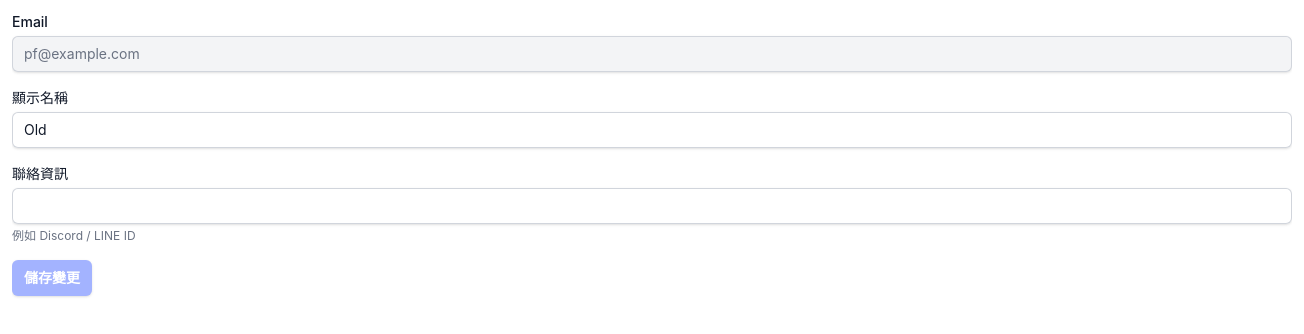
Test case: ProfileForm › renders server 422 errors on the matching field
This screenshot has width=1304, height=334.
Replace the text in the field labelled "顯示名稱" with "x" at point(652, 130), box [12,112,1292,148]
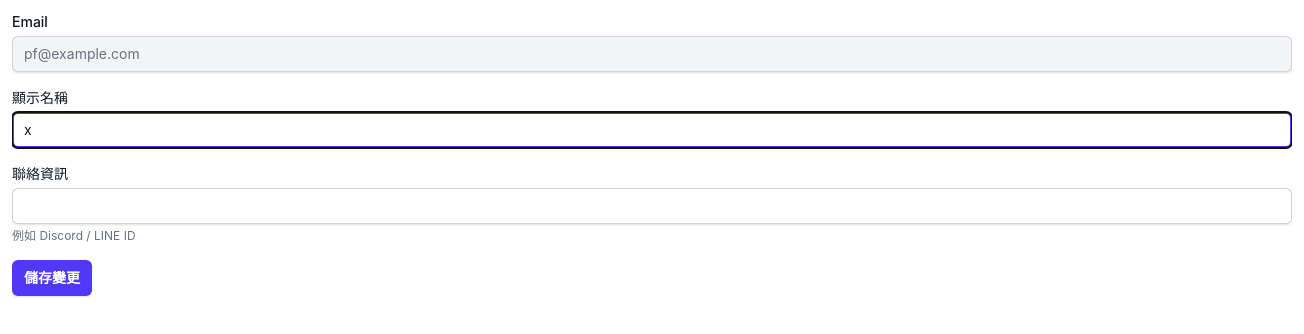
Click the button "儲存變更" at point(52, 278), box [12,260,92,296]
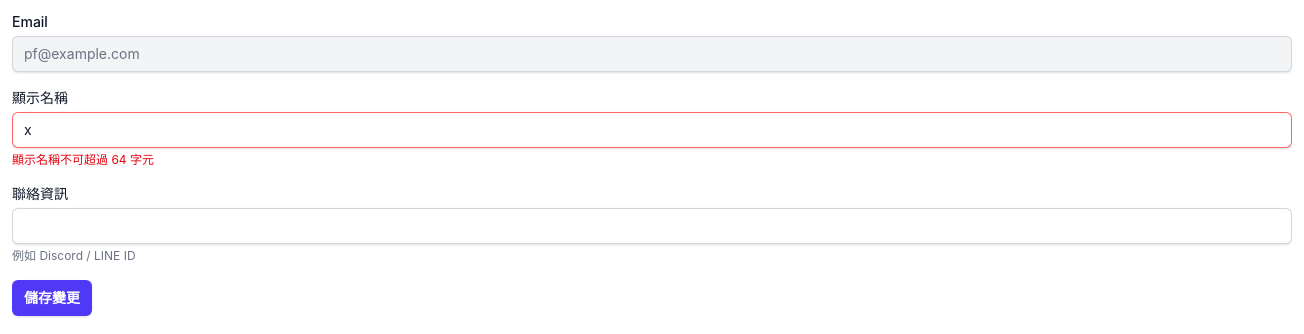
Expected: the text "顯示名稱不可超過 64 字元" is shown, [12,152,154,167]
